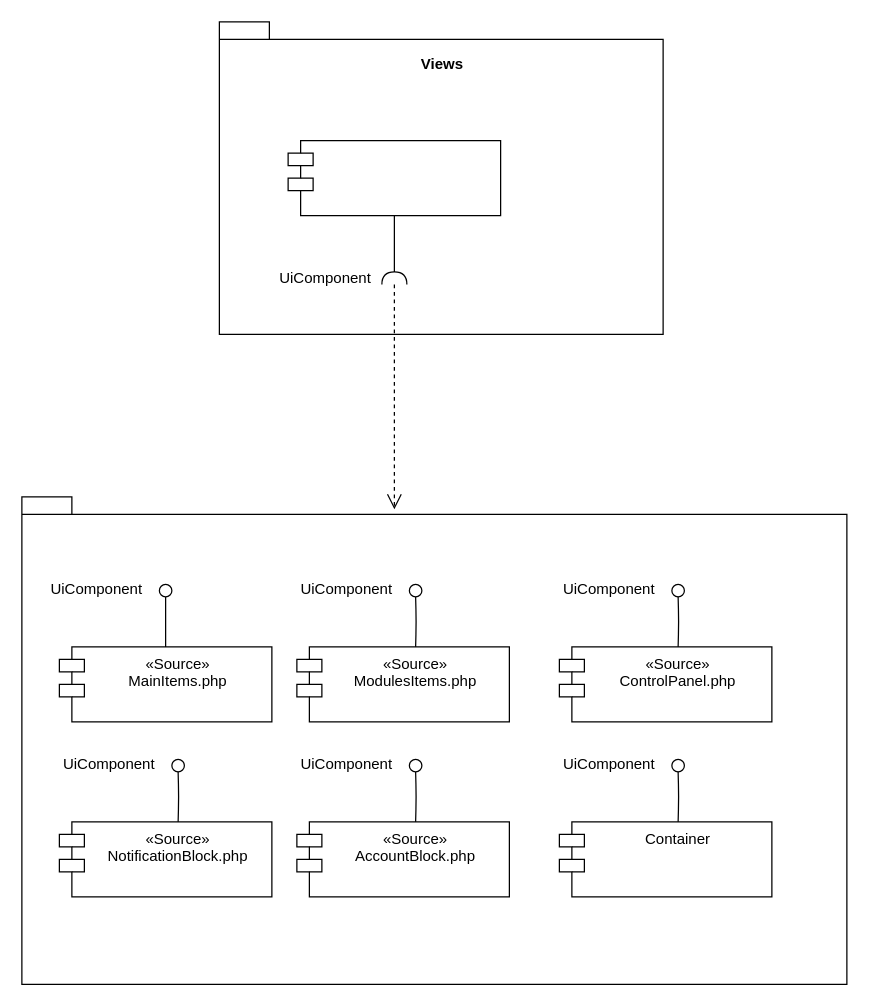
Some shapes in this 869 by 1006 pixel diagram are drawn without their labels. The box of each missing label's shape, as (x1, y1, x2, y2) in pixels:
UiComponents: (21, 496, 847, 984)
«Source» RenderAdminPage.php: (287, 139, 501, 216)
